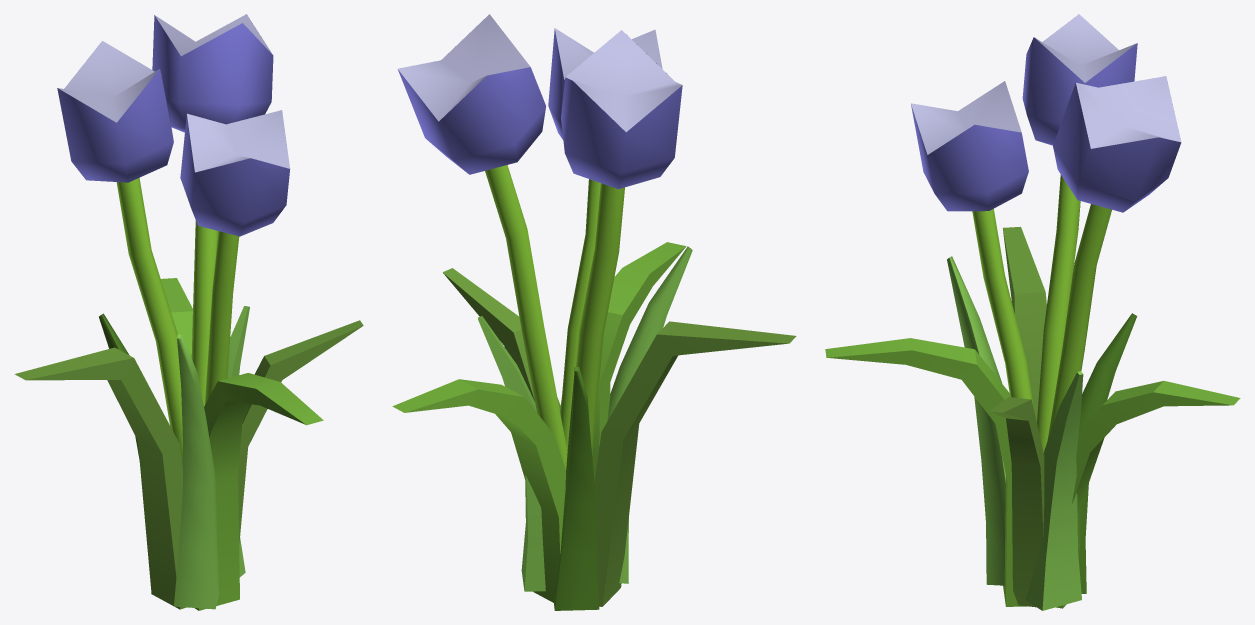
Rendered from Tulip_Blue_3.fbx.
The picture shows the model from 3 angles, left to right: view 1: azimuth 30°, elevation 25°; view 2: azimuth 150°, elevation 25°; view 3: azimuth 270°, elevation 25°; orthographic projection. The views are drawn at different scales.
Parts seen in each view (by area): view 1: Cube.167, Cylinder.665, Cube.170, Cube.165, Cylinder.668, Cylinder.662, Cylinder.669, Cylinder.663, Cylinder.667, Cube.169, Cylinder.661, Cylinder.664 (+4 smaller); view 2: Cube.167, Cylinder.665, Cylinder.668, Cube.166, Cube.164, Cylinder.664, Cylinder.667, Cylinder.666, Cylinder.669, Cube.165, Cube.171, Cube.170 (+4 smaller); view 3: Cube.171, Cylinder.665, Cylinder.662, Cube.165, Cube.169, Cylinder.666, Cube.170, Cylinder.669, Cube.166, Cylinder.668, Cylinder.664, Cylinder.661 (+4 smaller).
Boxes of the visible parts, x1,y1,x2,y2 form: Cube.167: (14, 347, 186, 609); Cylinder.665: (152, 15, 273, 132); Cube.170: (174, 334, 219, 609); Cube.165: (194, 373, 323, 610); Cylinder.668: (57, 69, 173, 182); Cylinder.662: (180, 114, 289, 236); Cylinder.669: (116, 177, 182, 467); Cylinder.663: (187, 110, 289, 172); Cylinder.667: (58, 41, 159, 122); Cube.169: (238, 320, 363, 542); Cylinder.661: (205, 231, 239, 404); Cylinder.664: (191, 220, 218, 406); Cube.167: (594, 321, 796, 606); Cylinder.665: (397, 39, 545, 174); Cylinder.668: (561, 34, 682, 189); Cube.166: (392, 379, 565, 602); Cube.164: (554, 367, 599, 610); Cylinder.664: (485, 165, 567, 469); Cylinder.667: (565, 30, 682, 132); Cylinder.666: (398, 14, 530, 121); Cylinder.669: (576, 183, 624, 455); Cube.165: (560, 242, 686, 481); Cube.171: (478, 316, 545, 591); Cube.170: (607, 246, 692, 583); Cube.171: (1025, 371, 1083, 610); Cylinder.665: (1053, 83, 1181, 212); Cylinder.662: (911, 104, 1028, 211); Cube.165: (825, 338, 1026, 606); Cube.169: (990, 397, 1044, 607); Cylinder.666: (1076, 76, 1181, 148); Cube.170: (947, 256, 1005, 585); Cylinder.669: (1037, 174, 1080, 452); Cube.166: (1056, 381, 1240, 608); Cylinder.668: (1022, 37, 1137, 145); Cylinder.664: (1047, 204, 1111, 439); Cylinder.661: (972, 208, 1033, 407).
Bounding box in the file's own units: 91.67 × 141 × 97.82.
